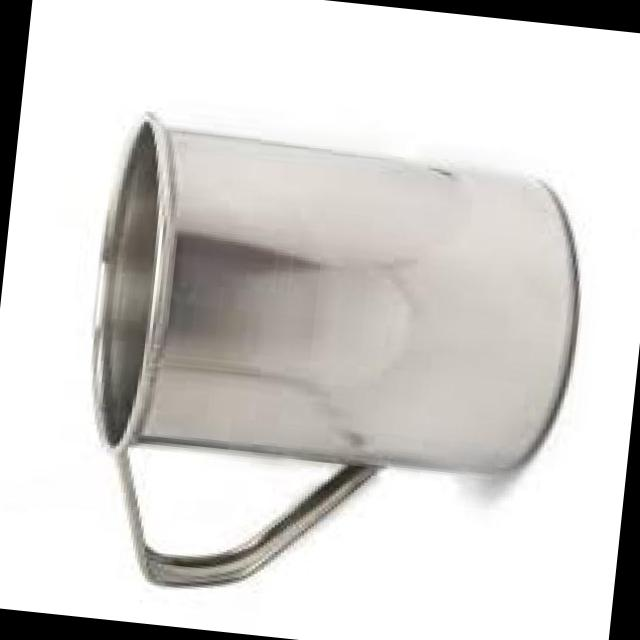Coffee Mug: (70, 99, 596, 628)
